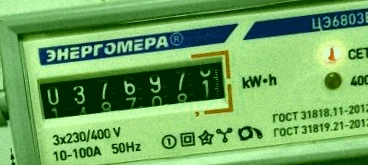0: (43, 83, 62, 106)
1: (200, 77, 213, 99)
3: (70, 82, 87, 106)
6: (121, 73, 137, 95)
7: (96, 75, 112, 101), (172, 67, 188, 92)
9: (146, 71, 162, 94)
screen: (29, 46, 240, 140)
